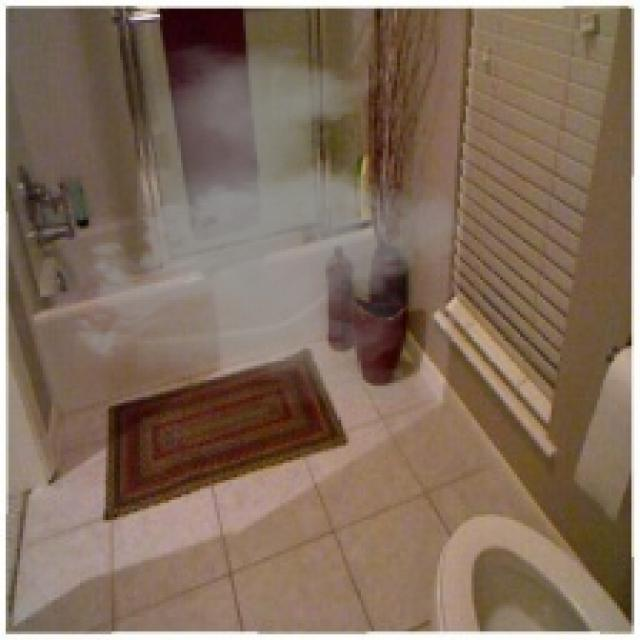Smoke: (62, 43, 478, 406)
